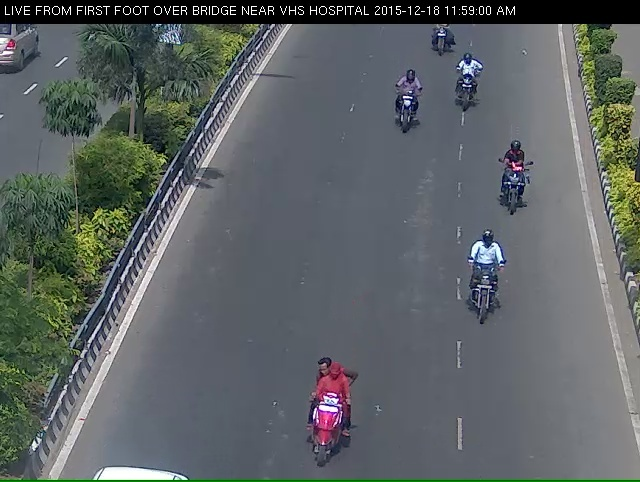Person: (461, 245, 509, 354), (289, 397, 347, 477), (498, 144, 532, 230), (384, 82, 422, 152), (453, 64, 479, 128), (423, 21, 452, 61)
